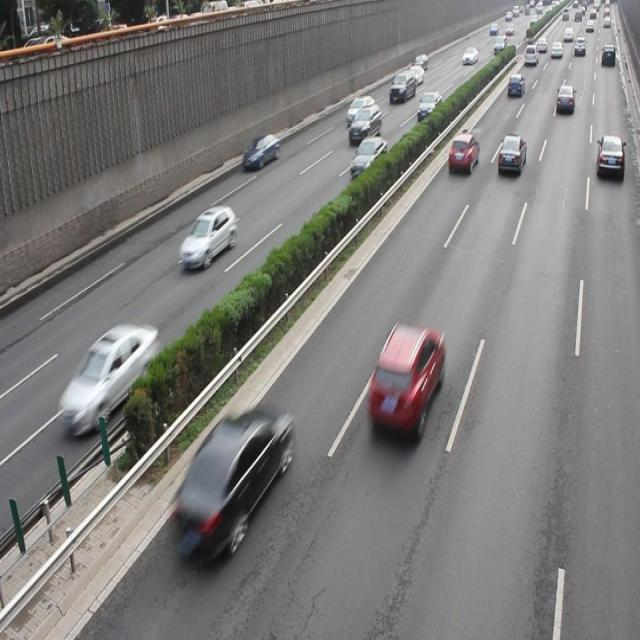car: (171, 406, 288, 560), (57, 322, 158, 438), (366, 324, 442, 443), (180, 206, 236, 268), (350, 136, 387, 178), (242, 132, 278, 170), (447, 132, 478, 174), (594, 134, 622, 180), (496, 133, 526, 175), (348, 104, 380, 142), (346, 94, 373, 124), (415, 90, 440, 122)
